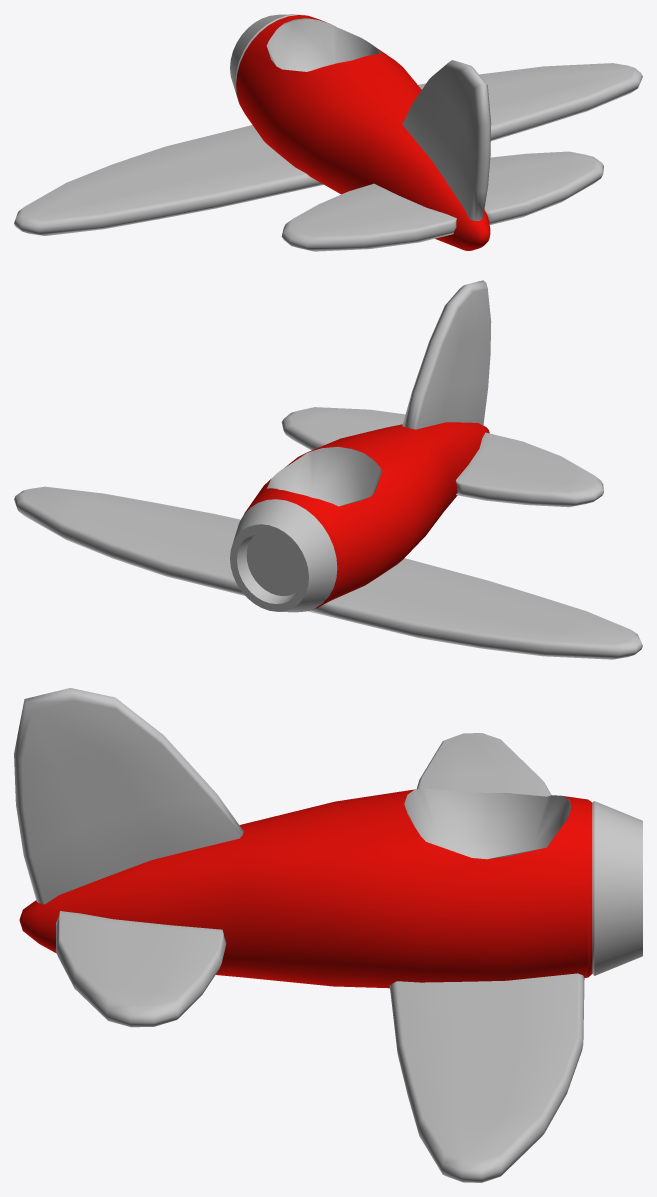
3 views of the same model, one above another, from view 1: azimuth 30°, elevation 25°; view 2: azimuth 150°, elevation 25°; view 3: azimuth 270°, elevation 25° (orthographic). The views are drawn at different scales.
Parts seen in each view (by area): view 1: Sphere, FrontWing, AftWing, Rudder; view 2: FrontWing, Sphere, AftWing, Rudder; view 3: Sphere, FrontWing, Rudder, AftWing.
Part boxes in pixels (<box>): Sphere: <box>230,14,490,250</box>; FrontWing: <box>14,63,642,235</box>; AftWing: <box>281,151,603,251</box>; Rudder: <box>402,60,491,220</box>; FrontWing: <box>14,486,642,659</box>; Sphere: <box>230,422,489,612</box>; AftWing: <box>281,407,603,507</box>; Rudder: <box>402,280,491,429</box>; Sphere: <box>19,788,642,988</box>; FrontWing: <box>389,733,584,1182</box>; Rudder: <box>14,688,243,904</box>; AftWing: <box>55,911,226,1027</box>.
Bounding box in the file's own units: 1142 × 353 × 692.
